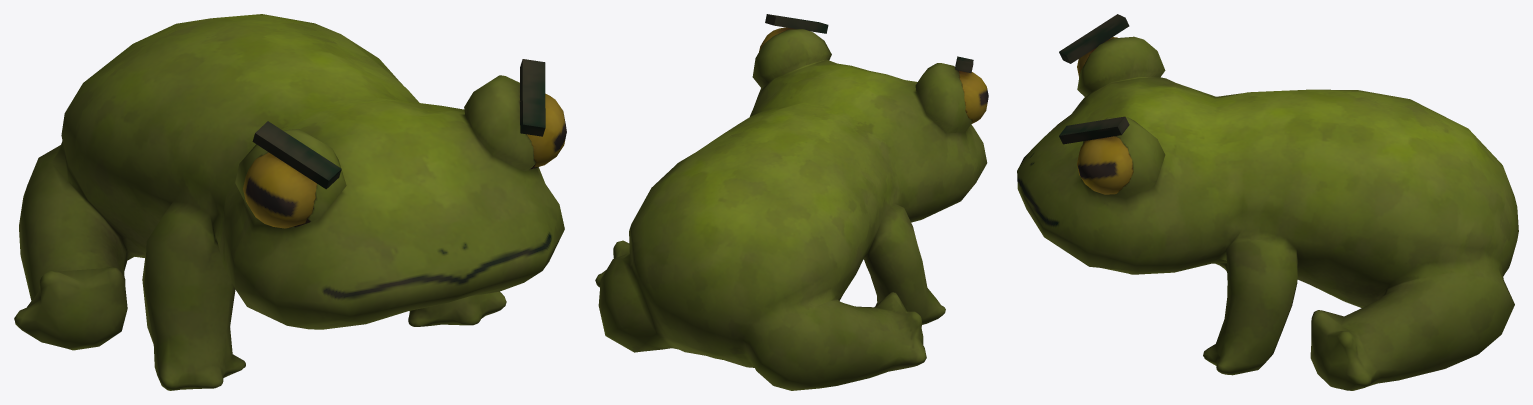
The model's file is Frog.fbx.
3 renders of one model, left to right at view 1: azimuth 30°, elevation 25°; view 2: azimuth 150°, elevation 25°; view 3: azimuth 270°, elevation 25°, orthographic. The views are drawn at different scales.
Parts seen in each view (by area): view 1: Frog; view 2: Frog; view 3: Frog.
Boxes of the visible parts, box(x1,y1,x2,y2) form: Frog: box(14, 14, 566, 390); Frog: box(595, 14, 988, 390); Frog: box(1017, 14, 1518, 390).
Bounding box in the file's own units: 0.7403 × 0.4887 × 0.8752.
1 material, 1 textured.
